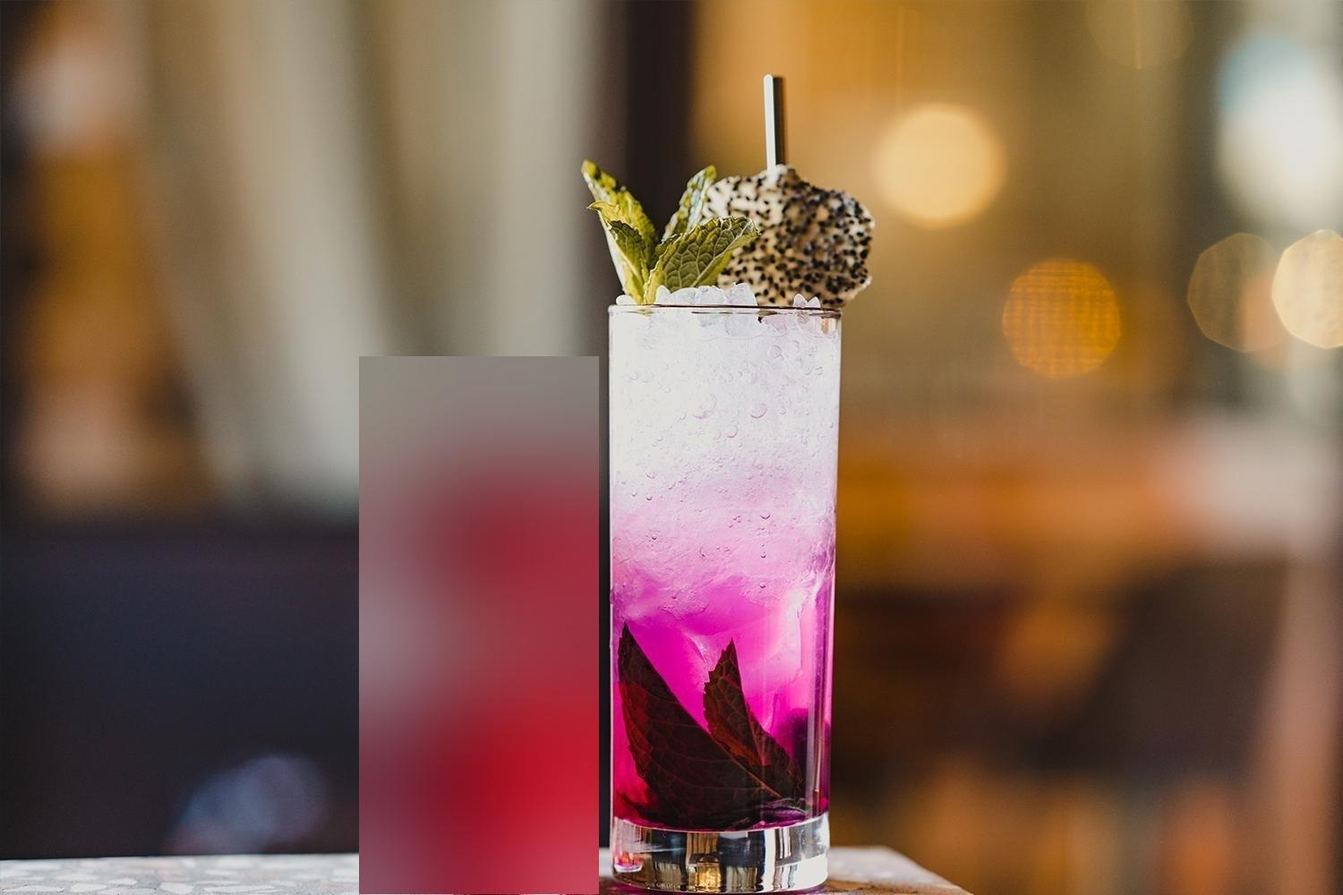glass-normal: (600, 292, 852, 891)
